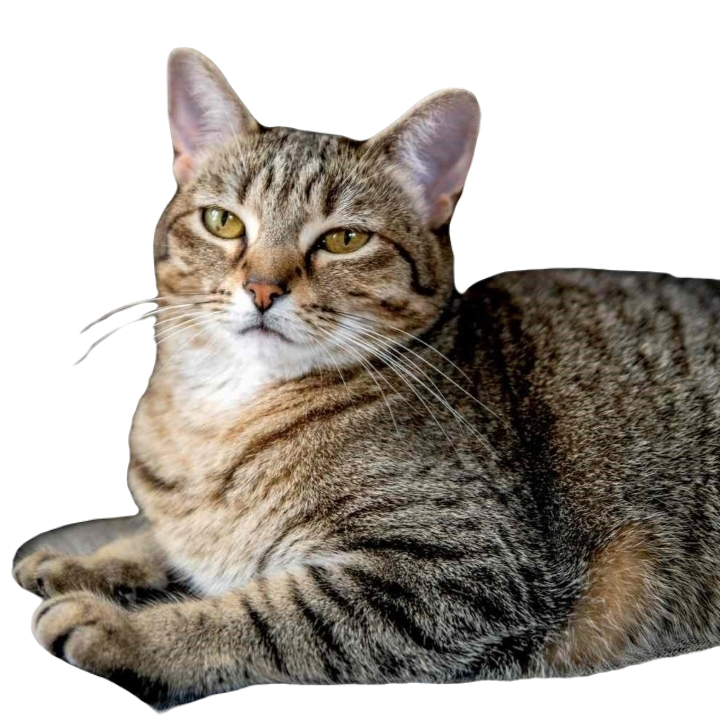Cat: (22, 41, 719, 690)
